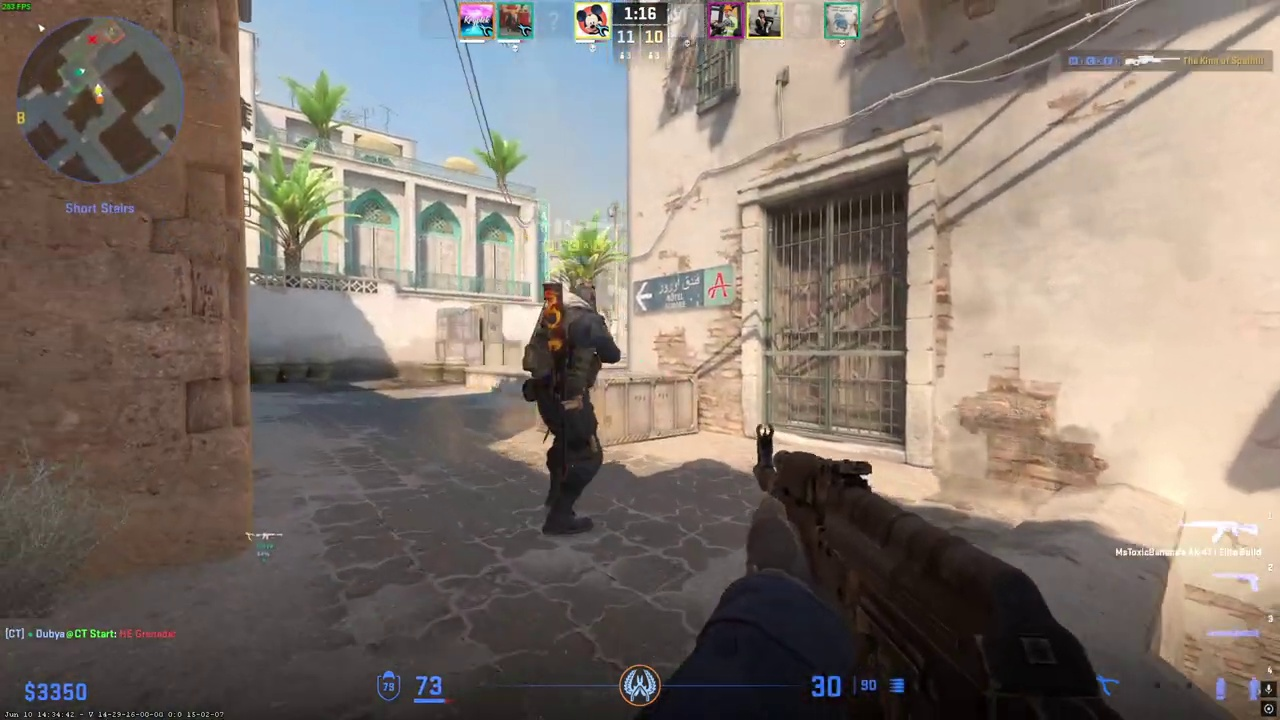CT: (525, 286, 612, 535)
